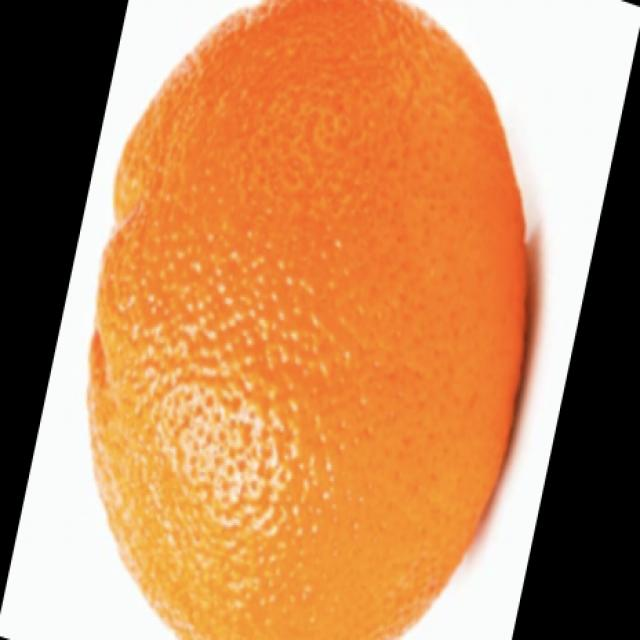fresh: (67, 7, 540, 640)
